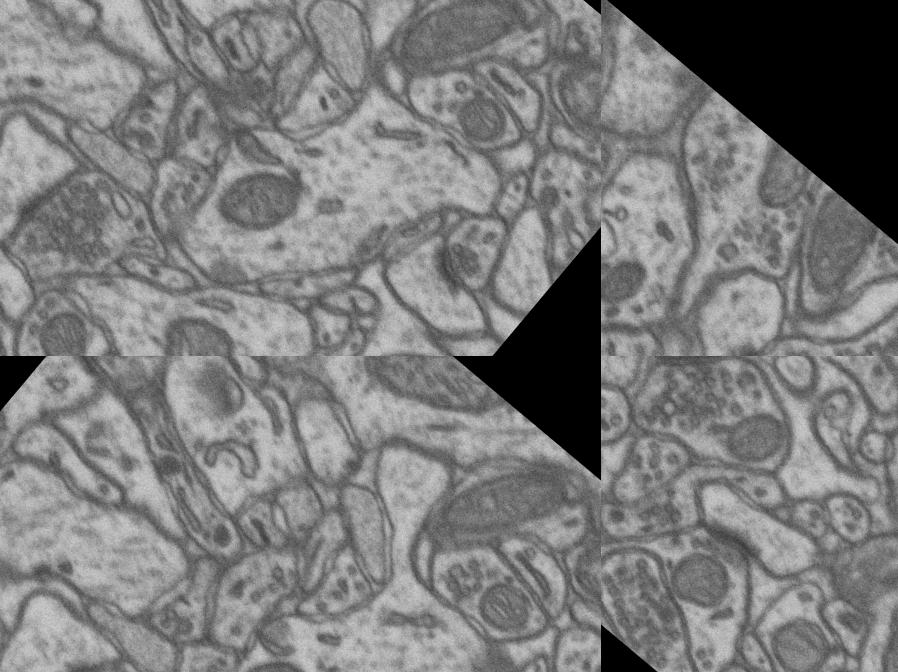mitochondria: (416, 415, 592, 593), (349, 356, 517, 468), (376, 0, 540, 111), (764, 188, 898, 323), (196, 138, 318, 260), (698, 110, 820, 227), (453, 560, 558, 666), (609, 29, 716, 130), (702, 387, 801, 488), (649, 531, 748, 629), (529, 30, 601, 153), (127, 286, 253, 356), (750, 594, 853, 672), (438, 80, 528, 168), (11, 291, 116, 356), (548, 514, 601, 628), (829, 588, 898, 672), (601, 225, 669, 309), (201, 628, 323, 672), (819, 314, 898, 356), (88, 356, 200, 377)
